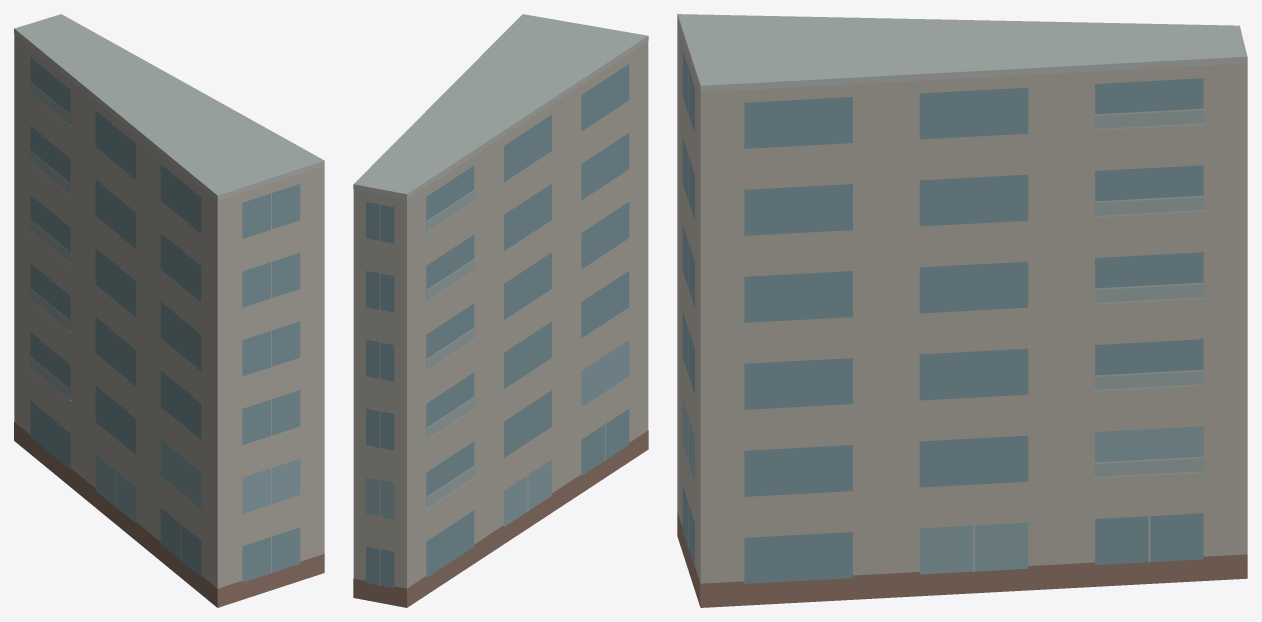
The model's file is survey-upis-32643726.glb.
The picture shows the model from 3 angles, left to right: view 1: azimuth 30°, elevation 25°; view 2: azimuth 150°, elevation 25°; view 3: azimuth 270°, elevation 25°; orthographic projection. The views are drawn at different scales.
Visible parts, largest first — view 1: survey-upis-32643726.tmp; view 2: survey-upis-32643726.tmp; view 3: survey-upis-32643726.tmp.
Part boxes in pixels (bbox=[...]): survey-upis-32643726.tmp: bbox=[14, 14, 324, 607]; survey-upis-32643726.tmp: bbox=[353, 14, 648, 607]; survey-upis-32643726.tmp: bbox=[677, 14, 1247, 607].
Bounding box in the file's own units: 5.65 × 19.1 × 18.91.
